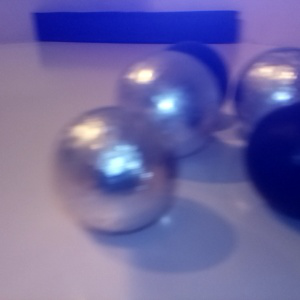alive_ball: (53, 106, 178, 234), (115, 50, 222, 157), (234, 47, 300, 140)
dead_ball: (244, 106, 300, 227), (153, 41, 229, 121)
